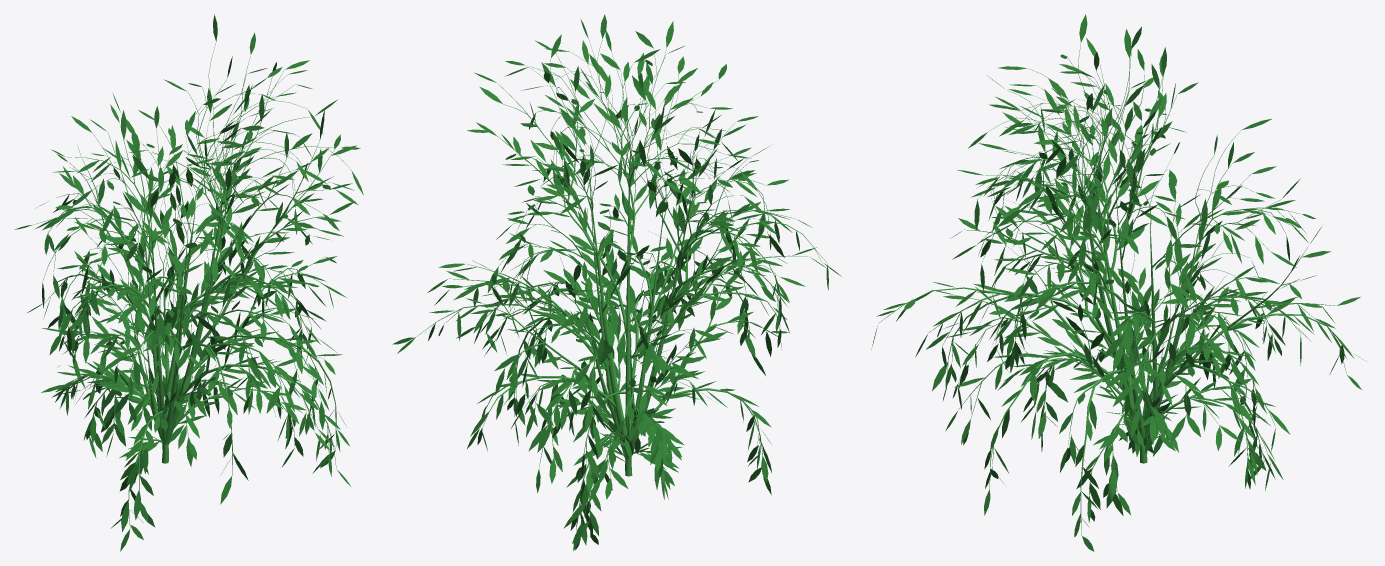
File: strawberry_plant_remapped.glb
3 views of the same model, side by side, from view 1: azimuth 30°, elevation 25°; view 2: azimuth 150°, elevation 25°; view 3: azimuth 270°, elevation 25° (orthographic). The views are drawn at different scales.
Parts seen in each view (by area): view 1: leaves, crown_stems; view 2: leaves, crown_stems; view 3: leaves, crown_stems.
Boxes of the visible parts, <box> form: leaves: <box>14,14,363,551</box>; crown_stems: <box>33,42,350,528</box>; leaves: <box>392,14,841,550</box>; crown_stems: <box>416,39,826,531</box>; leaves: <box>871,14,1366,551</box>; crown_stems: <box>878,43,1346,535</box>.
Size of the model in its own units: 505 by 658 by 602.
